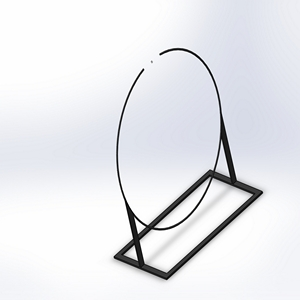circle: (112, 45, 264, 280)
